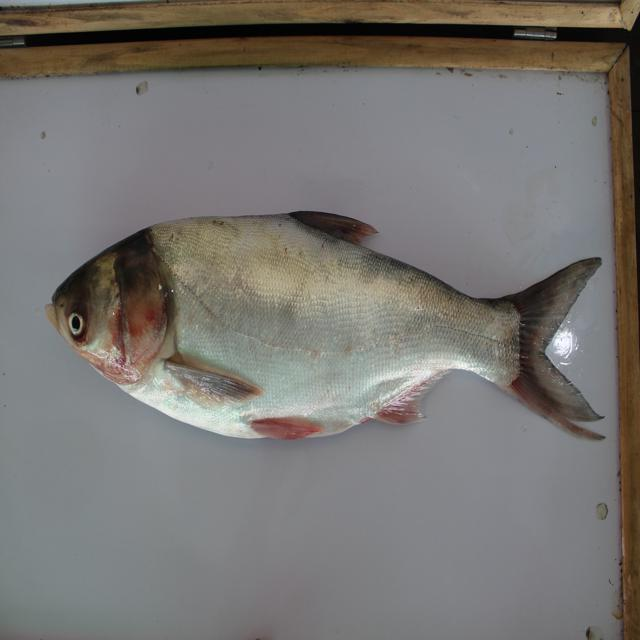SilverCarp: (51, 210, 610, 449)
